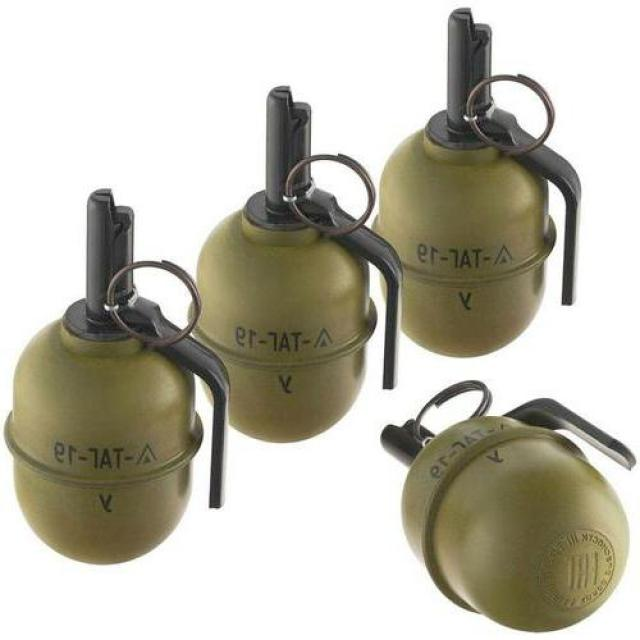grenade: (4, 189, 233, 565), (188, 83, 405, 448), (374, 6, 585, 360), (381, 381, 639, 635)
